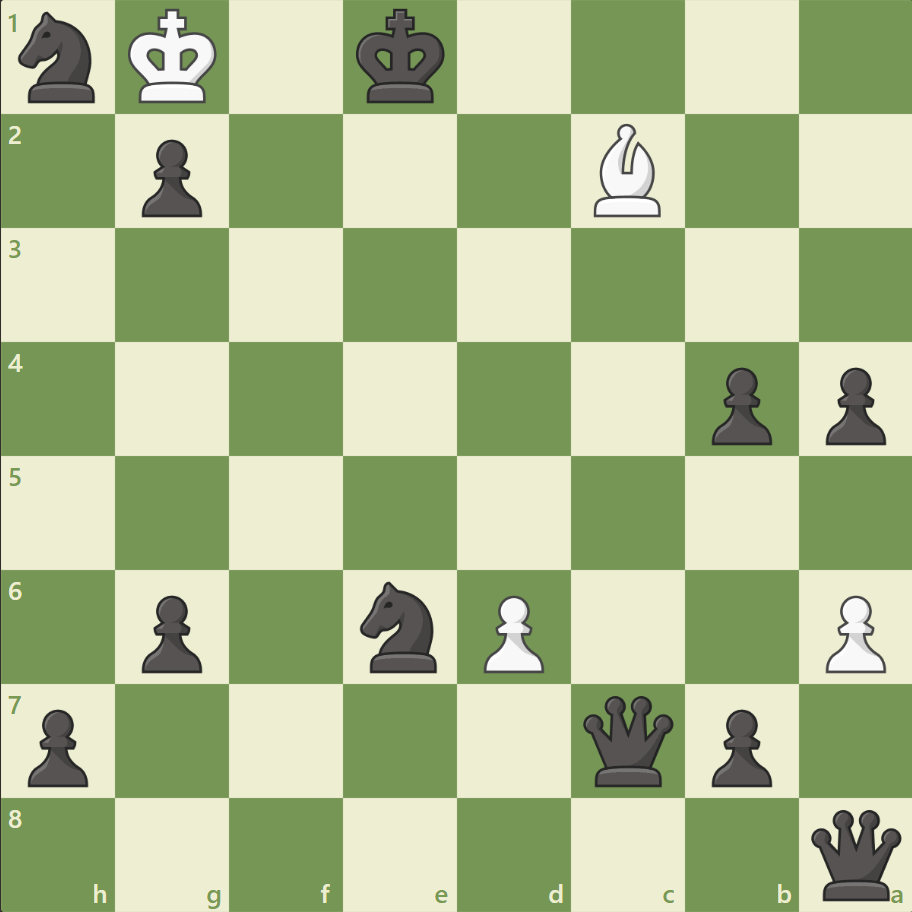B: (585, 120, 669, 222)
K: (124, 4, 224, 112)
P: (474, 586, 549, 677), (815, 586, 889, 677)
k: (351, 4, 451, 112)
n: (351, 575, 449, 677), (11, 7, 108, 110)
p: (701, 700, 776, 791), (20, 700, 95, 791), (133, 586, 208, 677), (701, 359, 776, 450), (133, 132, 208, 223), (815, 359, 889, 450)
q: (805, 804, 904, 903), (578, 690, 677, 789)
